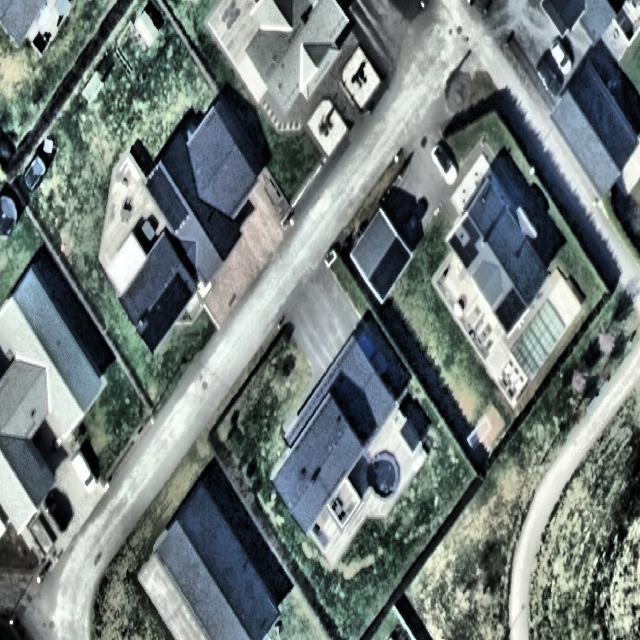roof_pv: (146, 168, 190, 230), (371, 237, 411, 299), (166, 268, 193, 331), (143, 287, 166, 351), (495, 288, 527, 334), (448, 233, 480, 266), (462, 213, 484, 242)
